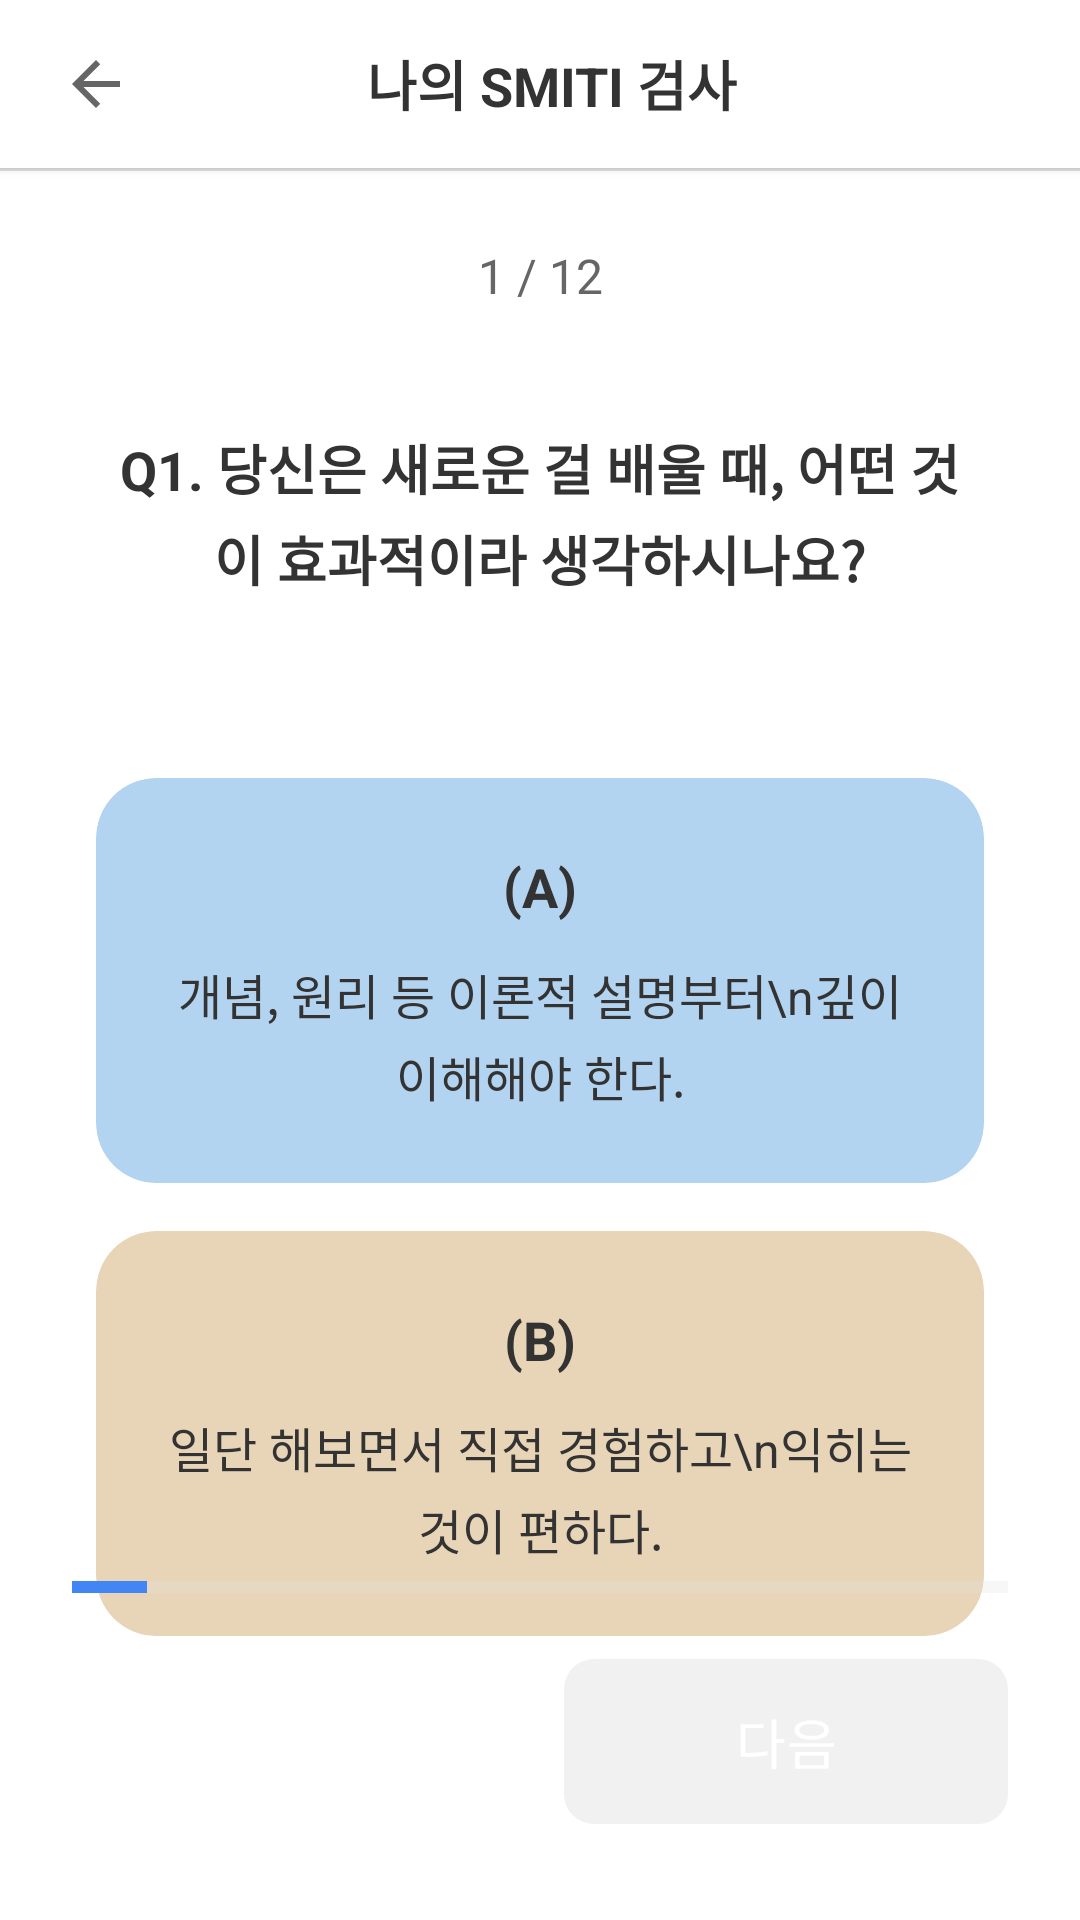

Named icons in this screenshot (1080×1920) and their bounding boxes, (x1, y1, x2, y2):
뒤로가기: (72, 60, 120, 108)
